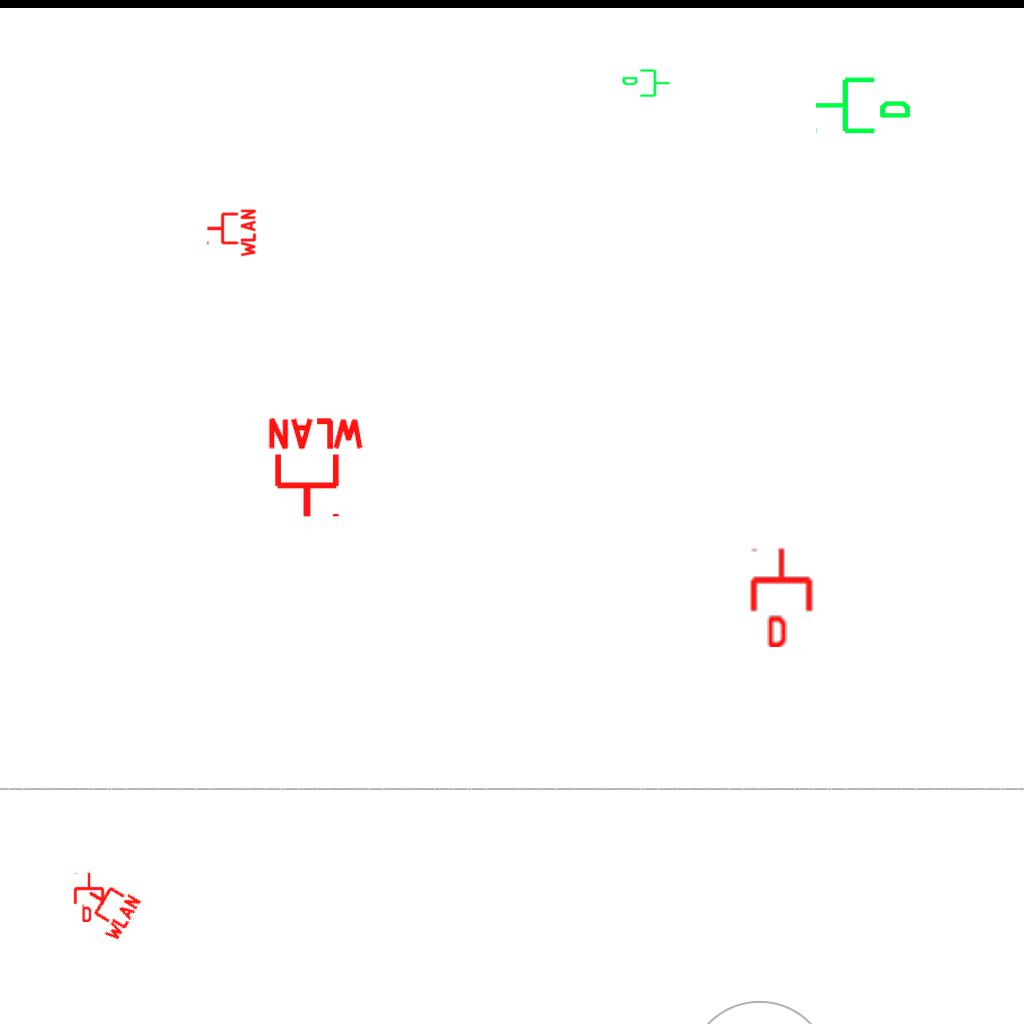Datenanschluss_einfach: (747, 547, 816, 647), (813, 69, 913, 138), (72, 872, 106, 922), (621, 67, 671, 101)
WLAN: (264, 416, 368, 521), (72, 873, 144, 945), (205, 207, 257, 259)
